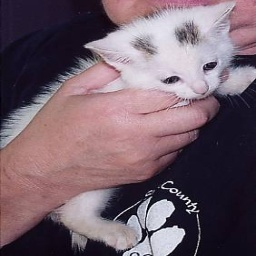cat: (0, 4, 255, 246)
